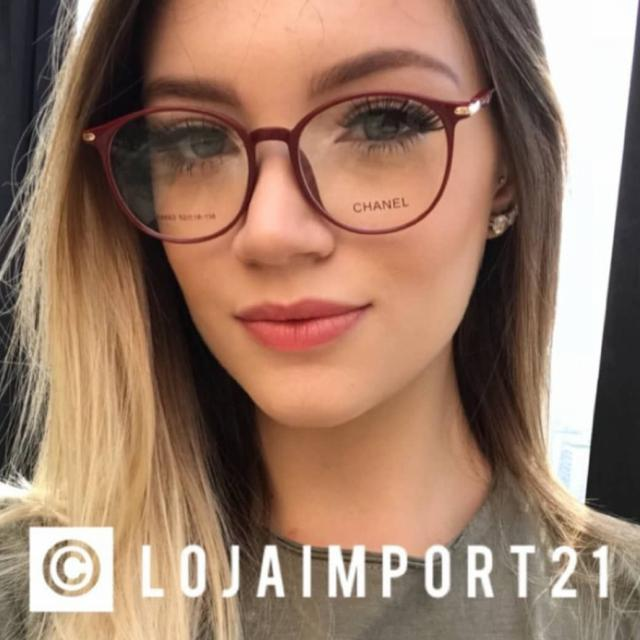Glasses: (77, 79, 498, 254)
